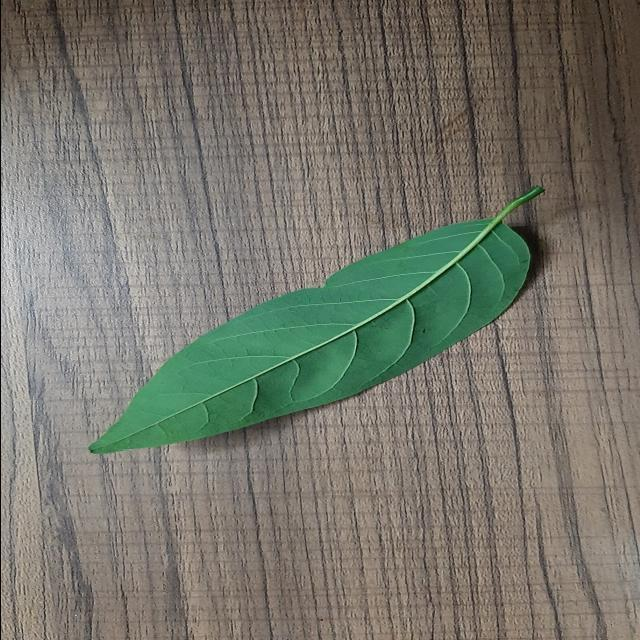leaf: (87, 183, 544, 455)
